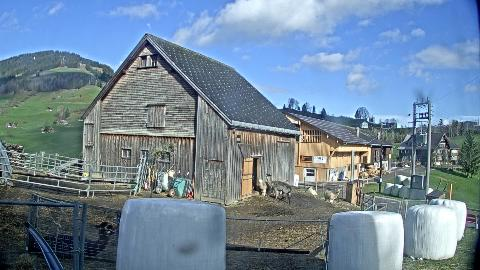sheep: (42, 221, 116, 258), (264, 174, 292, 204), (324, 188, 340, 204), (258, 180, 272, 196)
